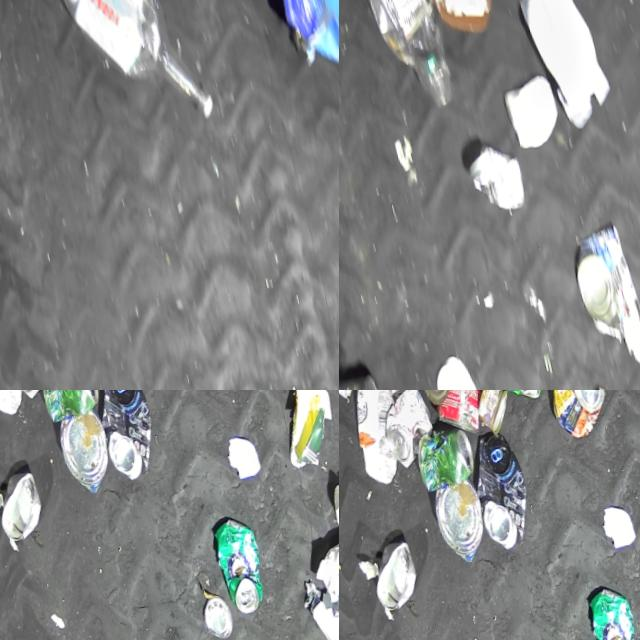can: (562, 230, 640, 383), (461, 434, 536, 562), (86, 390, 161, 492), (205, 521, 269, 629), (52, 414, 115, 505), (427, 483, 490, 574), (374, 390, 439, 476), (411, 425, 478, 499), (414, 390, 499, 448), (363, 542, 421, 623), (541, 390, 612, 451), (0, 473, 46, 553), (579, 589, 640, 640), (36, 390, 102, 430), (468, 390, 514, 443), (479, 390, 540, 416), (195, 600, 230, 640)
non_white_jug: (353, 0, 455, 130), (243, 0, 339, 105)
